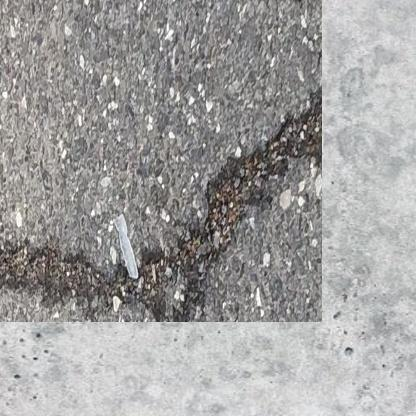Cracks: (0, 85, 298, 298)
